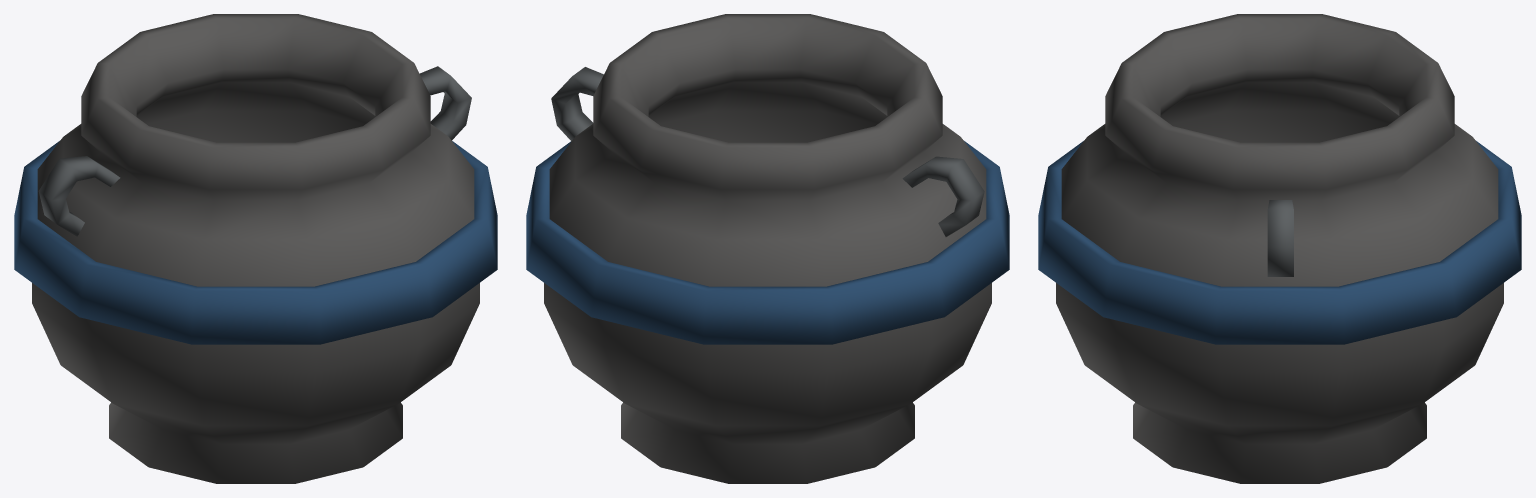
File: rpgpp_lt_bowl_metal_01 -col.glb
3 views of the same model, side by side, from view 1: azimuth 30°, elevation 25°; view 2: azimuth 150°, elevation 25°; view 3: azimuth 270°, elevation 25° (orthographic).
Visible parts, largest first — view 1: rpgpp_lt_bowl_metal_01 -col; view 2: rpgpp_lt_bowl_metal_01 -col; view 3: rpgpp_lt_bowl_metal_01 -col.
Boxes of the visible parts, x1,y1,x2,y2 form: rpgpp_lt_bowl_metal_01 -col: [14, 14, 497, 483]; rpgpp_lt_bowl_metal_01 -col: [526, 14, 1009, 483]; rpgpp_lt_bowl_metal_01 -col: [1038, 14, 1521, 483].
Bounding box in the file's own units: 0.8704 × 0.6747 × 0.8663.
Materials: 1 (1 with a texture image).
